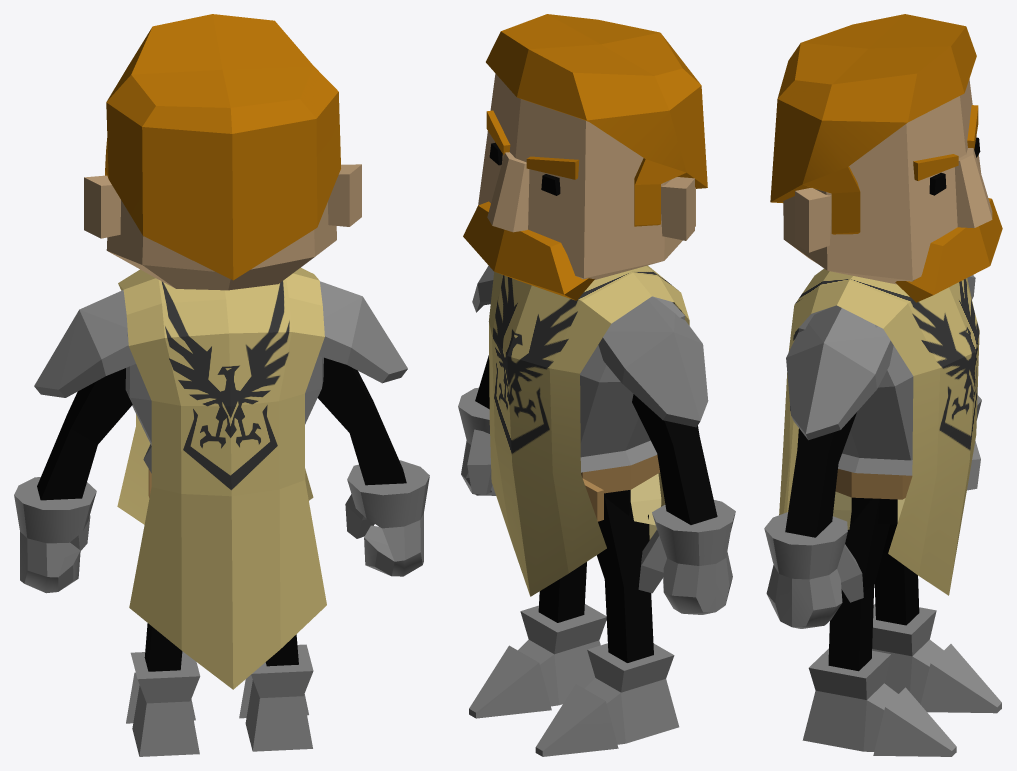
Rendered from army79.glb.
The picture shows the model from 3 angles, left to right: view 1: azimuth 30°, elevation 25°; view 2: azimuth 150°, elevation 25°; view 3: azimuth 270°, elevation 25°; orthographic projection.
Parts seen in each view (by area): view 1: Soldier_72_Stendardi_Mat3_0.001; view 2: Soldier_72_Stendardi_Mat3_0.001; view 3: Soldier_72_Stendardi_Mat3_0.001.
Boxes of the visible parts, x1=… form: Soldier_72_Stendardi_Mat3_0.001: x1=14, y1=14, x2=429, y2=756; Soldier_72_Stendardi_Mat3_0.001: x1=458, y1=14, x2=735, y2=756; Soldier_72_Stendardi_Mat3_0.001: x1=764, y1=14, x2=1002, y2=756.
Size of the model in its own units: 0.1124 by 0.2196 by 0.0696.
Materials: 7 (1 with a texture image).
